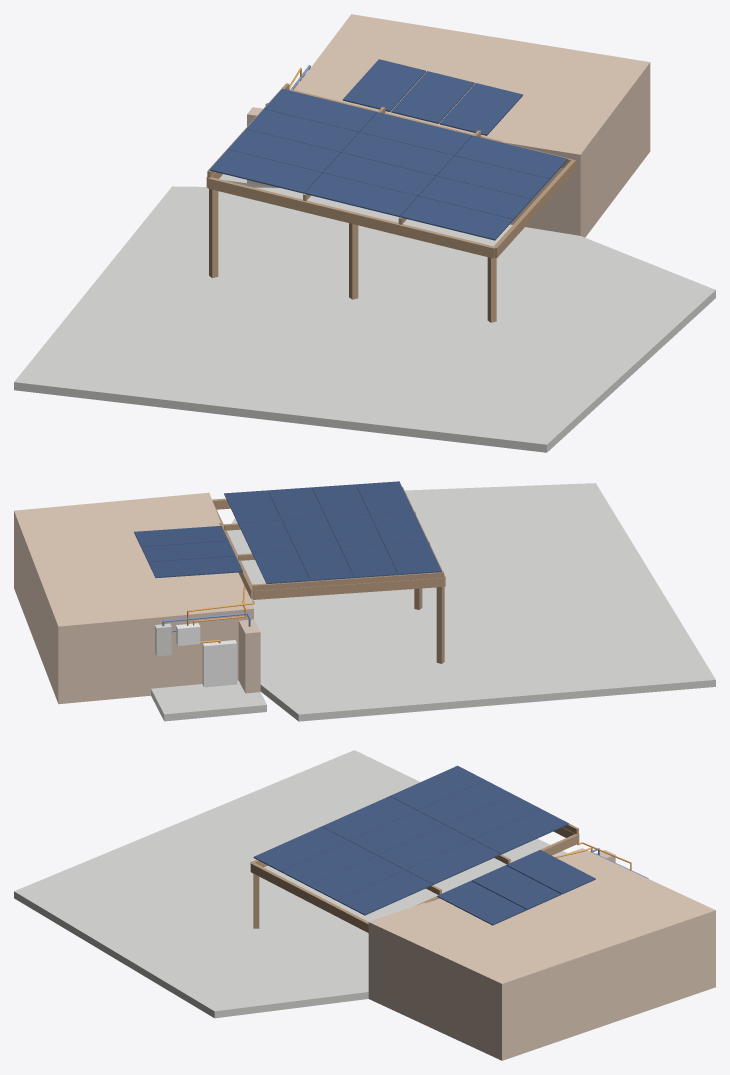
The model's file is modelo.glb.
3 renders of one model, top to bottom at view 1: azimuth 30°, elevation 25°; view 2: azimuth 150°, elevation 25°; view 3: azimuth 270°, elevation 25°, orthographic. The views are drawn at different scales.
Visible parts, largest first — view 1: cubierta-01, cubierta-02, zona-01-viga-3, modulo-009, modulo-001, modulo-005, modulo-014, modulo-013, modulo-015, modulo-010, modulo-012, modulo-011 (+9 smaller); view 2: cubierta-01, cubierta-02, cubierta-03, zona-01-viga-2, bateria-01, buitron-01, modulo-013, modulo-014, modulo-015, modulo-001, modulo-004, modulo-003 (+14 smaller); view 3: cubierta-01, cubierta-02, modulo-012, modulo-015, modulo-008, modulo-014, modulo-013, modulo-004, modulo-011, modulo-009, modulo-010, modulo-006 (+6 smaller).
Part boxes in pixels (bbox=[...]): cubierta-01: bbox=[14, 186, 715, 452]; cubierta-02: bbox=[294, 14, 650, 237]; zona-01-viga-3: bbox=[207, 177, 495, 258]; modulo-009: bbox=[400, 196, 513, 240]; modulo-001: bbox=[209, 149, 322, 193]; modulo-005: bbox=[305, 173, 417, 217]; modulo-014: bbox=[391, 71, 474, 123]; modulo-013: bbox=[342, 59, 425, 111]; modulo-015: bbox=[439, 83, 522, 135]; modulo-010: bbox=[418, 176, 531, 219]; modulo-012: bbox=[455, 135, 567, 179]; modulo-011: bbox=[437, 156, 549, 199]; cubierta-01: bbox=[227, 483, 715, 721]; cubierta-02: bbox=[14, 492, 253, 704]; cubierta-03: bbox=[151, 680, 266, 721]; zona-01-viga-2: bbox=[253, 578, 444, 599]; bateria-01: bbox=[202, 640, 237, 687]; buitron-01: bbox=[238, 619, 260, 693]; modulo-013: bbox=[148, 556, 242, 577]; modulo-014: bbox=[141, 541, 235, 562]; modulo-015: bbox=[134, 526, 228, 547]; modulo-001: bbox=[384, 541, 441, 574]; modulo-004: bbox=[252, 550, 309, 583]; modulo-003: bbox=[296, 547, 353, 580]; cubierta-01: bbox=[14, 750, 567, 1018]; cubierta-02: bbox=[368, 848, 715, 1060]; modulo-012: bbox=[337, 870, 432, 915]; modulo-015: bbox=[437, 881, 526, 925]; modulo-008: bbox=[405, 839, 500, 884]; modulo-014: bbox=[471, 865, 560, 909]; modulo-013: bbox=[506, 850, 595, 894]; modulo-004: bbox=[474, 809, 568, 854]; modulo-011: bbox=[309, 855, 404, 900]; modulo-009: bbox=[253, 826, 348, 871]; modulo-010: bbox=[281, 841, 376, 886]; modulo-006: bbox=[350, 810, 444, 855].
Bounding box in the file's own units: 18.63 × 2.83 × 18.19.
